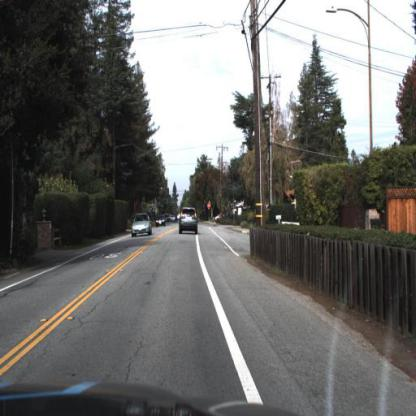car: (130, 209, 154, 241), (175, 203, 197, 236), (131, 212, 152, 238), (155, 211, 169, 233)
